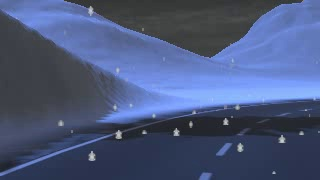Lane: (0, 101, 319, 179)
